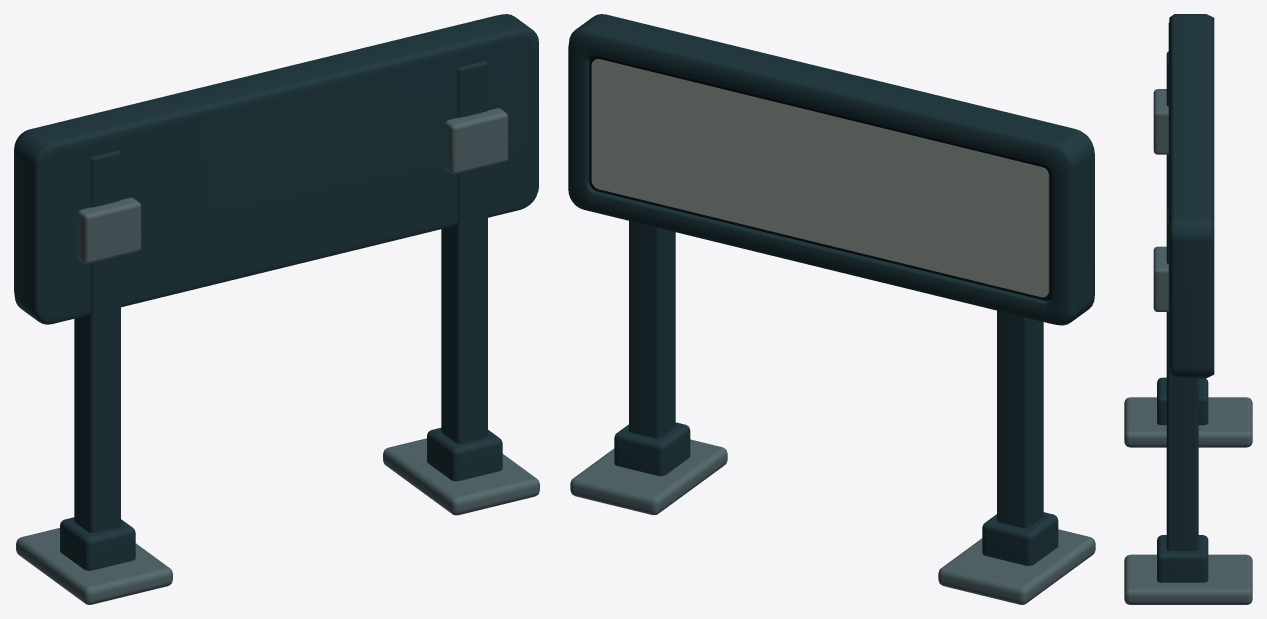
The model's file is city_sign_supports_02.glb.
The picture shows the model from 3 angles, left to right: view 1: azimuth 30°, elevation 25°; view 2: azimuth 150°, elevation 25°; view 3: azimuth 270°, elevation 25°; orthographic projection. The views are drawn at different scales.
Parts seen in each view (by area): view 1: CitySignSupports02_Hardware; view 2: CitySignSupports02_Hardware, CitySignSupports02_ArtworkCarrier; view 3: CitySignSupports02_Hardware.
Boxes of the visible parts, bbox=[...] form: CitySignSupports02_Hardware: bbox=[14, 14, 539, 604]; CitySignSupports02_Hardware: bbox=[568, 14, 1095, 604]; CitySignSupports02_ArtworkCarrier: bbox=[591, 59, 1049, 297]; CitySignSupports02_Hardware: bbox=[1124, 14, 1252, 604].
Bounding box in the file's own units: 1.6 × 1.35 × 0.4.
